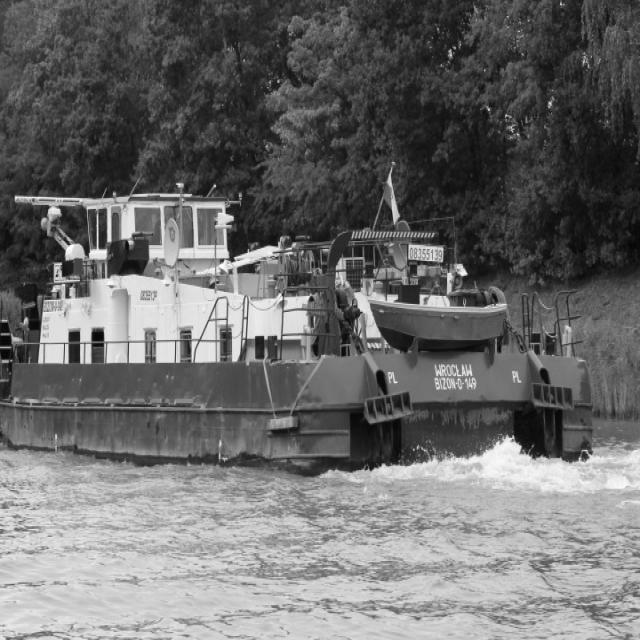tugboat: (1, 178, 599, 483)
